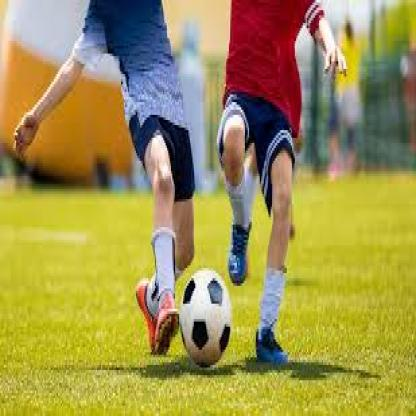ball: (178, 265, 232, 370)
